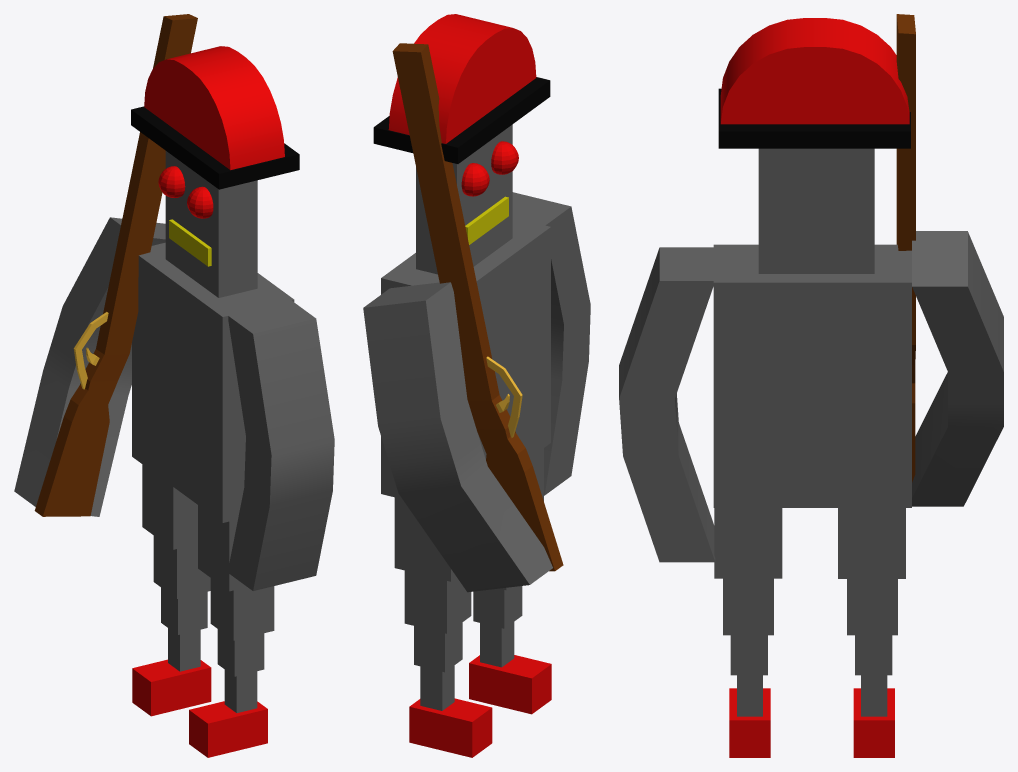
Rendered from Foot Soldier.fbx.
3 views of the same model, side by side, from view 1: azimuth 30°, elevation 25°; view 2: azimuth 150°, elevation 25°; view 3: azimuth 270°, elevation 25° (orthographic). The views are drawn at different scales.
Parts seen in each view (by area): view 1: polySurface55, polySurface53, polySurface52, polySurface48, polySurface54, polySurface46, polySurface49, polySurface64, polySurface60, polySurface63, polySurface57, polySurface62 (+9 smaller); view 2: polySurface54, polySurface52, polySurface55, polySurface53, polySurface48, polySurface46, polySurface64, polySurface60, polySurface49, polySurface62, polySurface63, polySurface61 (+7 smaller); view 3: polySurface55, polySurface53, polySurface54, polySurface48, polySurface46, polySurface49, polySurface56, polySurface63, polySurface52, polySurface57, polySurface62, polySurface60 (+5 smaller).
Boxes of the visible parts, x1,y1,x2,y2 form: polySurface55: (132,242,294,522); polySurface53: (227,300,334,590); polySurface52: (34,14,197,516); polySurface48: (144,46,284,170); polySurface54: (14,217,165,516); polySurface46: (165,151,257,297); polySurface49: (131,106,299,189); polySurface64: (132,659,211,716); polySurface60: (189,701,267,757); polySurface63: (142,464,197,549); polySurface57: (210,578,274,640); polySurface62: (153,535,210,598); polySurface54: (363,282,552,592); polySurface52: (392,43,563,571); polySurface55: (381,217,550,498); polySurface53: (512,192,590,495); polySurface48: (388,14,536,143); polySurface46: (416,124,512,274); polySurface64: (409,698,492,757); polySurface60: (469,655,551,714); polySurface49: (373,77,550,163); polySurface62: (404,570,471,633); polySurface63: (394,497,456,581); polySurface61: (414,622,462,672); polySurface55: (713,244,911,507); polySurface53: (619,247,715,562); polySurface54: (912,231,1003,506); polySurface48: (720,18,909,124); polySurface46: (758,148,874,273); polySurface49: (718,88,910,148); polySurface56: (714,508,782,578); polySurface63: (838,508,905,578); polySurface52: (896,14,915,482); polySurface57: (723,578,773,635); polySurface62: (847,579,897,635); polySurface60: (729,688,770,757).
Size of the model in its own units: 0.7421 by 2.72 by 1.29.
